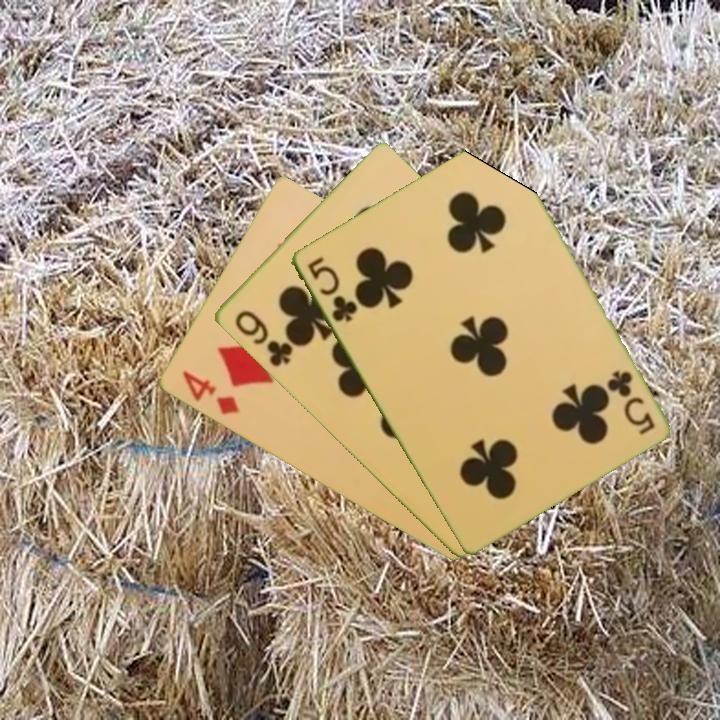4d: (178, 367, 242, 418)
5c: (303, 253, 360, 325), (605, 366, 657, 438)
9c: (231, 306, 296, 370)
